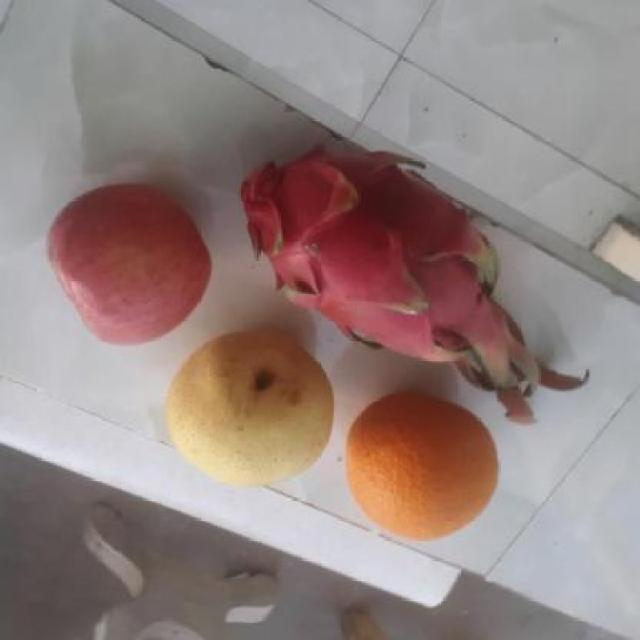apple: (39, 188, 210, 344)
dragon fruit: (232, 146, 496, 369)
oren: (338, 392, 502, 537)
pear: (154, 329, 335, 486)
